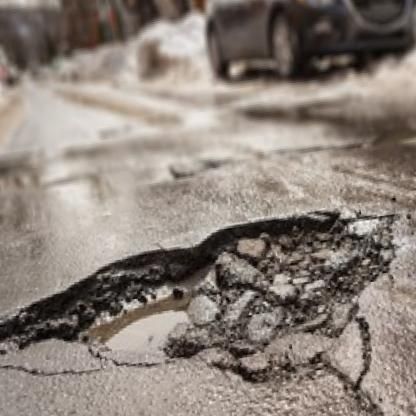pothole: (0, 196, 416, 416)
